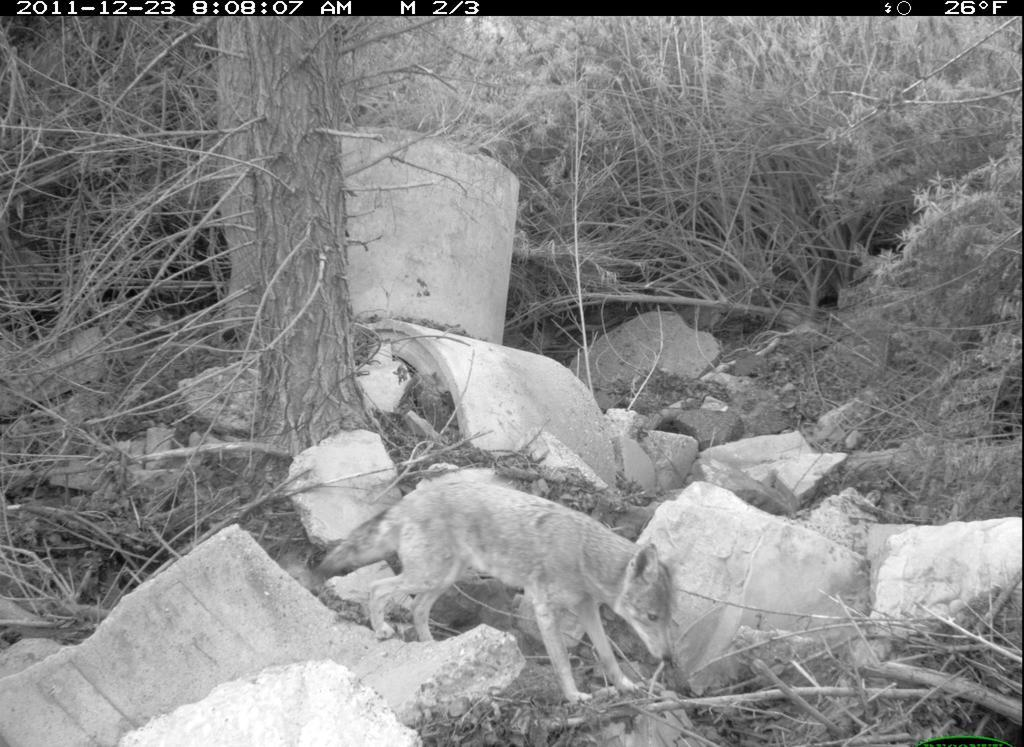coyote: (314, 473, 702, 712)
